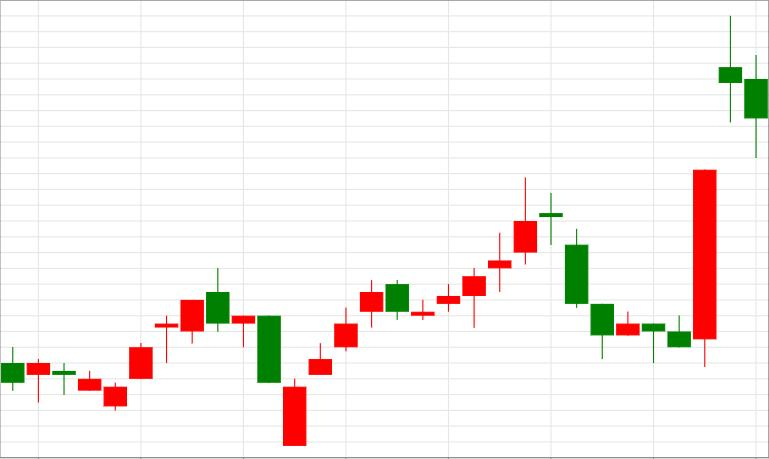bullish_engulfing_rise: (539, 169, 718, 366)
evening_star_fall: (411, 177, 589, 328)
shooting_star_fall: (411, 178, 537, 328)
three_white_soldiers_rise: (206, 265, 358, 446)
